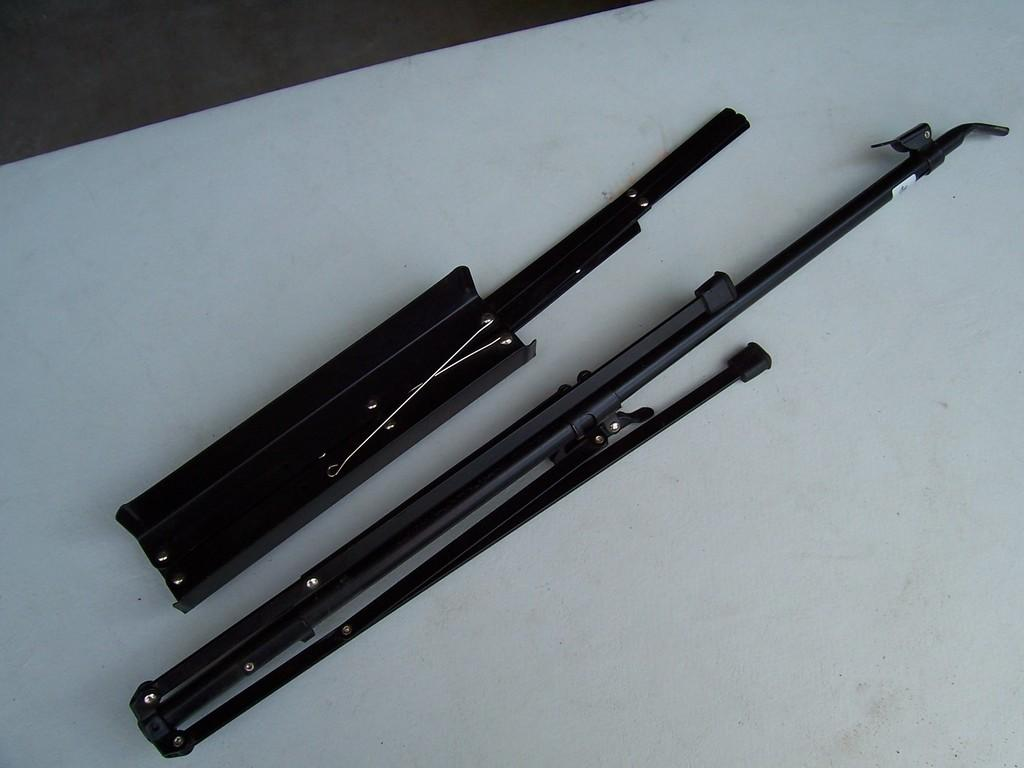Shotgun: (129, 122, 1010, 759)
